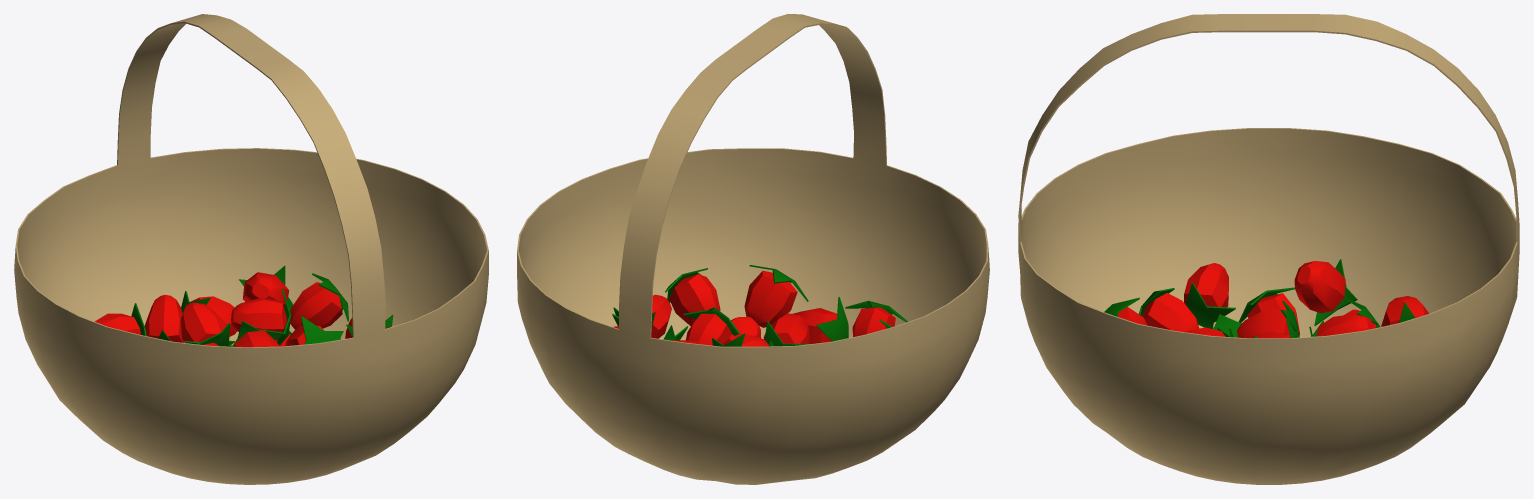
The model's file is Strewberry_Сrop.fbx.
The picture shows the model from 3 angles, left to right: view 1: azimuth 30°, elevation 25°; view 2: azimuth 150°, elevation 25°; view 3: azimuth 270°, elevation 25°; orthographic projection. The views are drawn at different scales.
Parts seen in each view (by area): view 1: Strewberry_Сrop; view 2: Strewberry_Сrop; view 3: Strewberry_Сrop.
Boxes of the visible parts, x1,y1,x2,y2 form: Strewberry_Сrop: (14,14,488,484); Strewberry_Сrop: (517,14,989,484); Strewberry_Сrop: (1018,14,1519,484).
Size of the model in its own units: 29.81 by 29.91 by 27.95.
